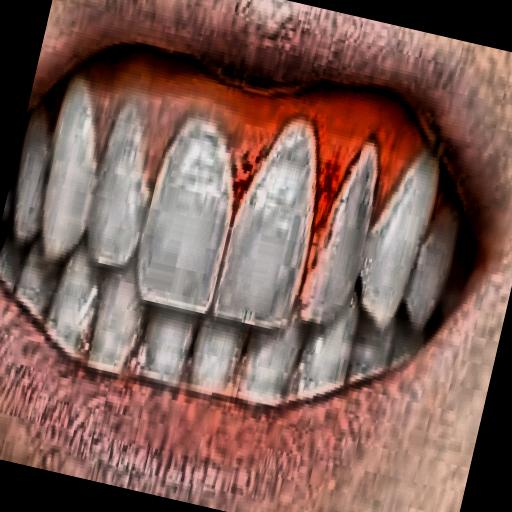Gingivitis: (212, 25, 464, 256)
